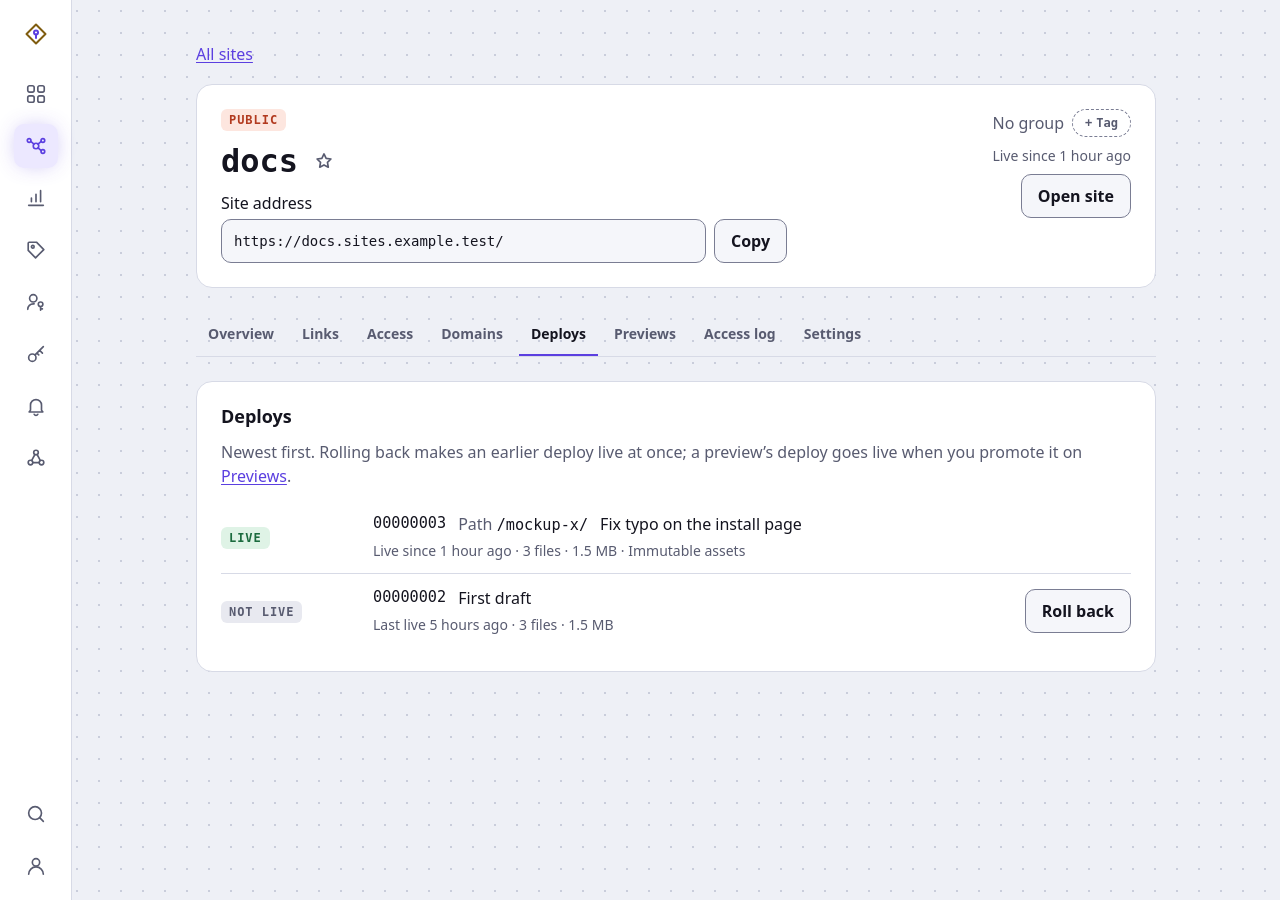
site detail › keeps the rollback dialog open and explains a refused rollback
Click the button with aria-label "Roll back to deploy 00000002" at (1078, 611), box [1025, 589, 1131, 633]
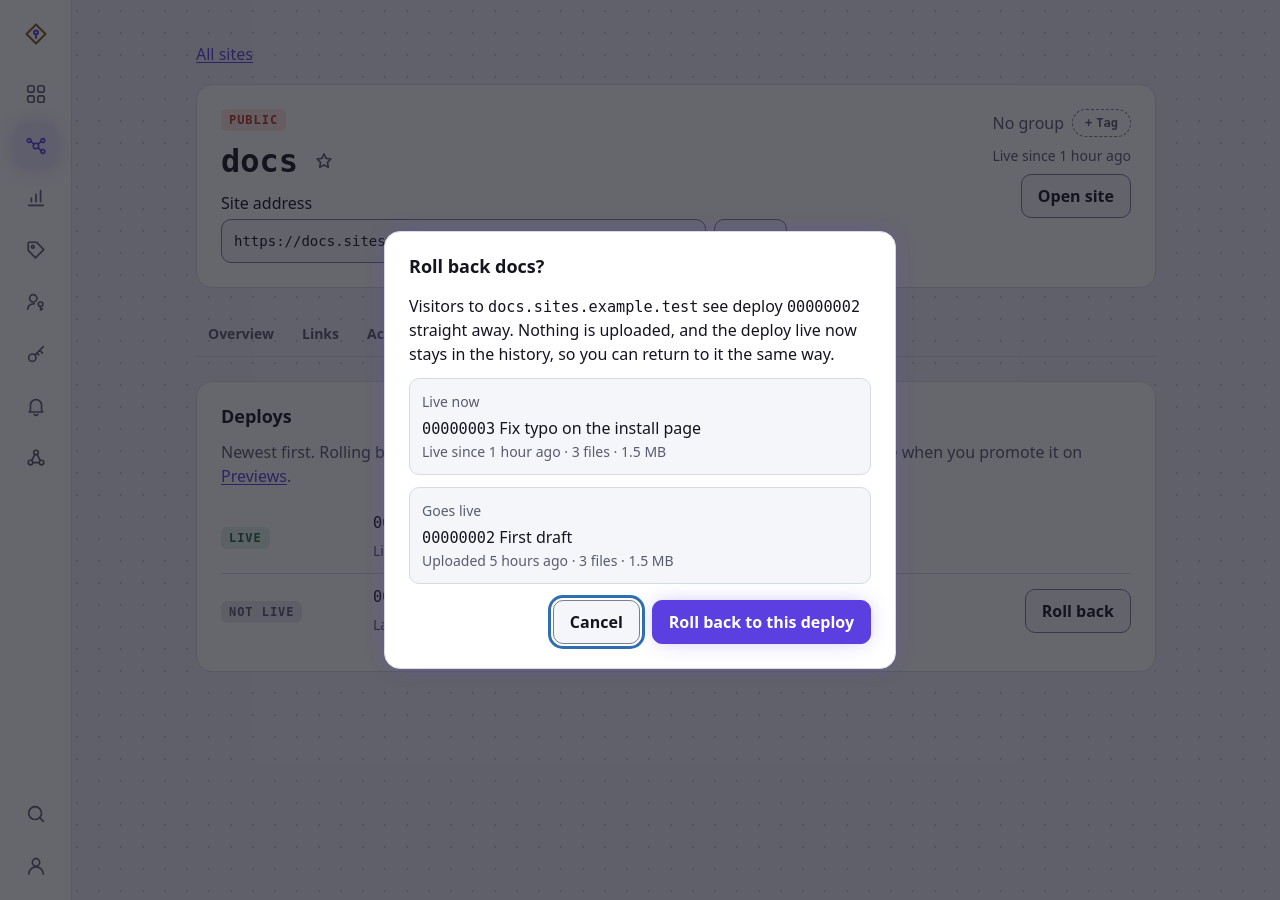
Click the button "Roll back to this deploy" at (761, 622), box [652, 600, 871, 644]
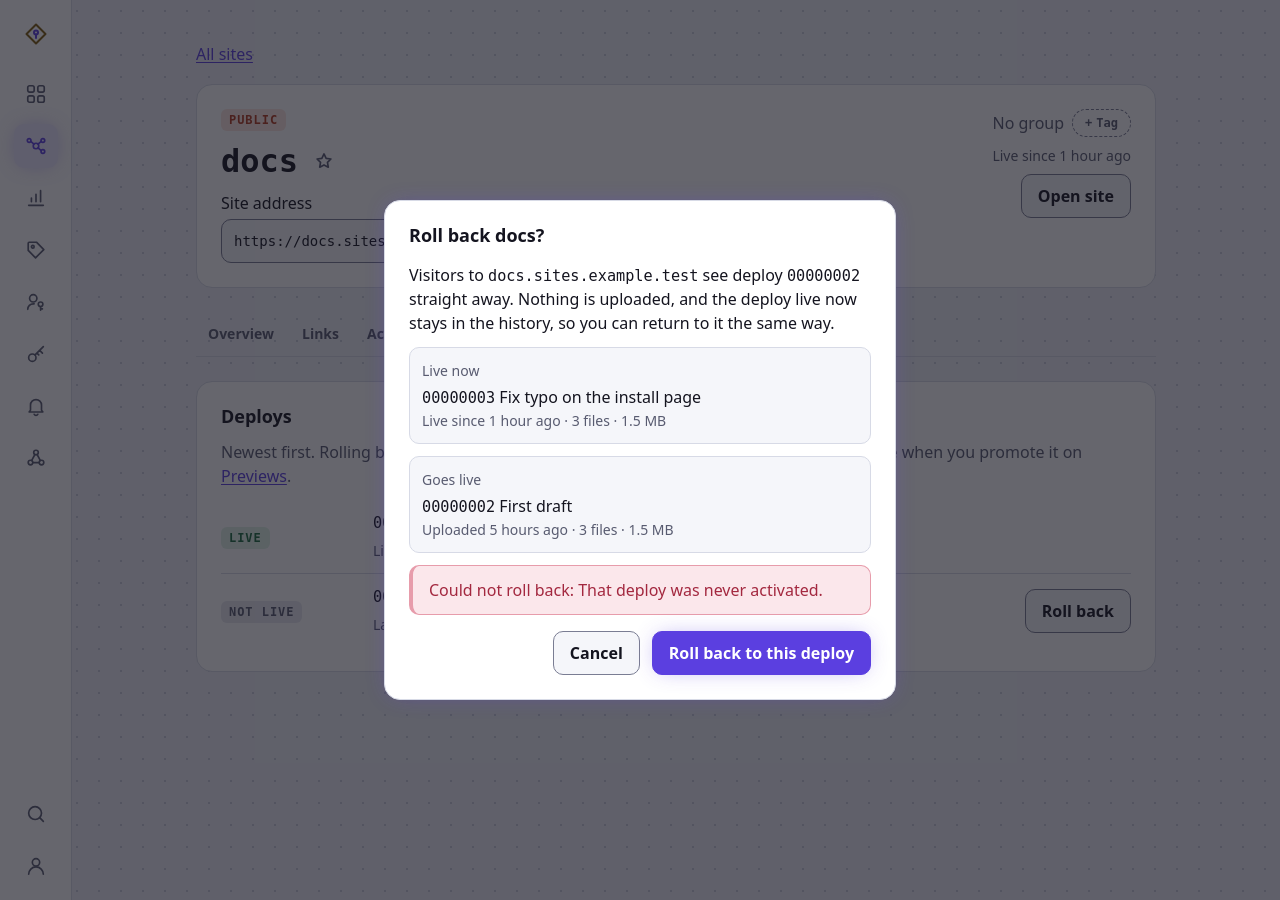
Expected: the message reads "Could not roll back: That deploy was never activated.", [429, 579, 823, 601]
Click the button "Cancel" at (596, 653), box [553, 631, 640, 675]
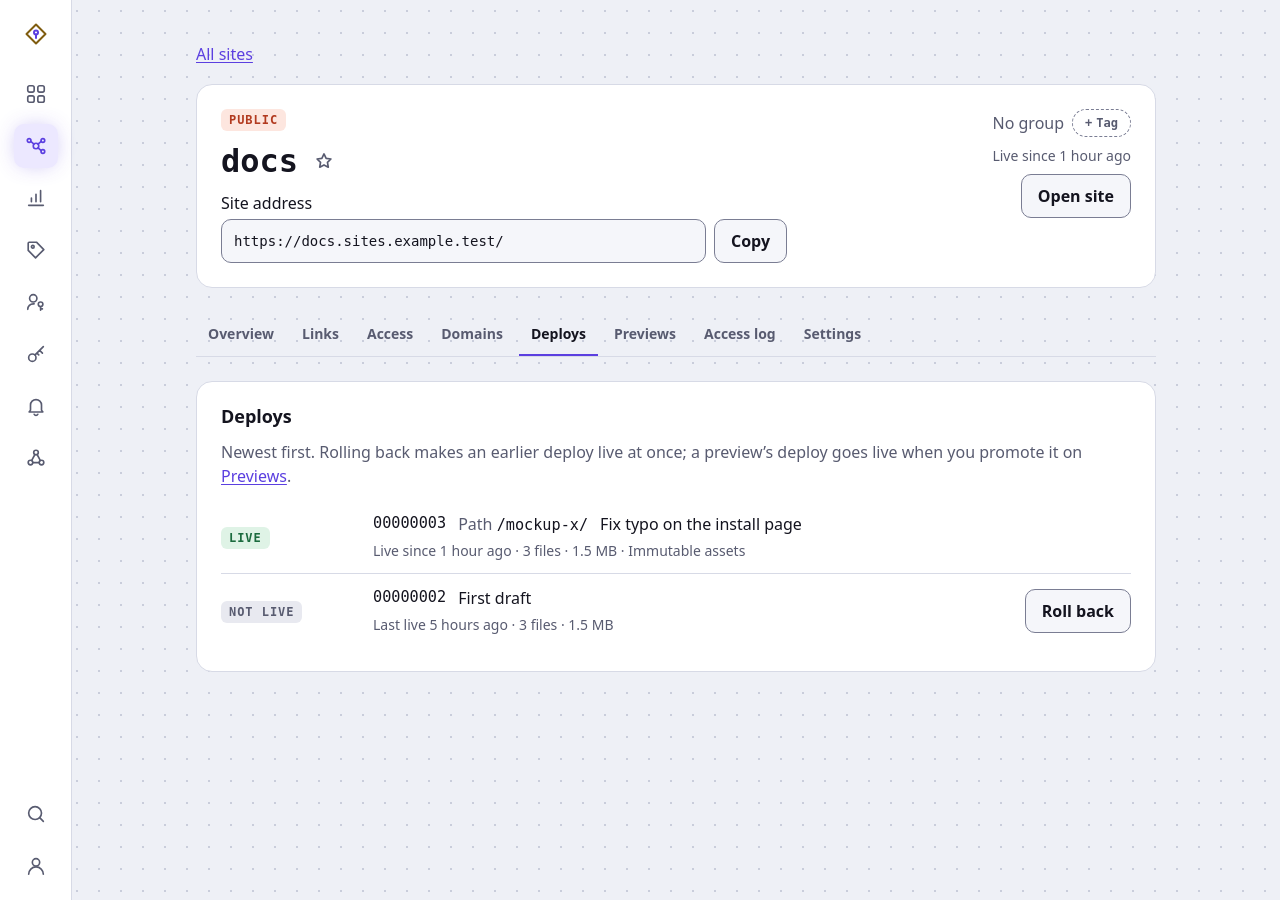
Expected: the dialog is gone
